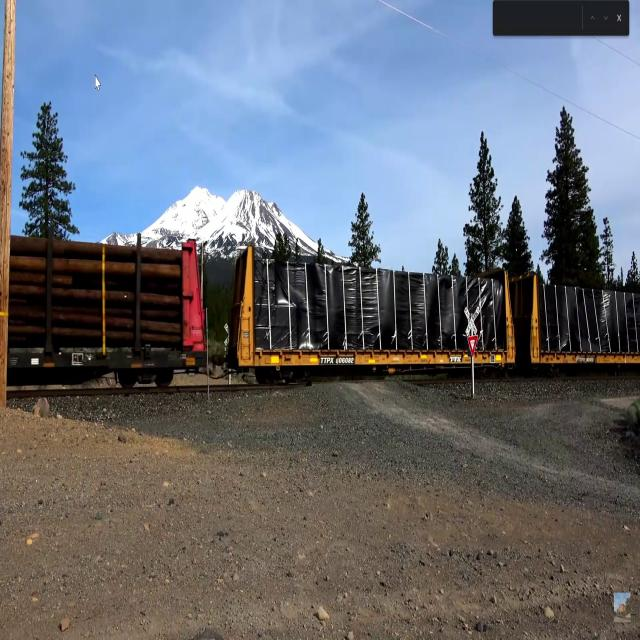cargo: (253, 256, 504, 348), (9, 231, 182, 348), (540, 275, 640, 354)
flatcar_bulkhead: (226, 239, 519, 380), (9, 228, 213, 375), (518, 270, 640, 376)
